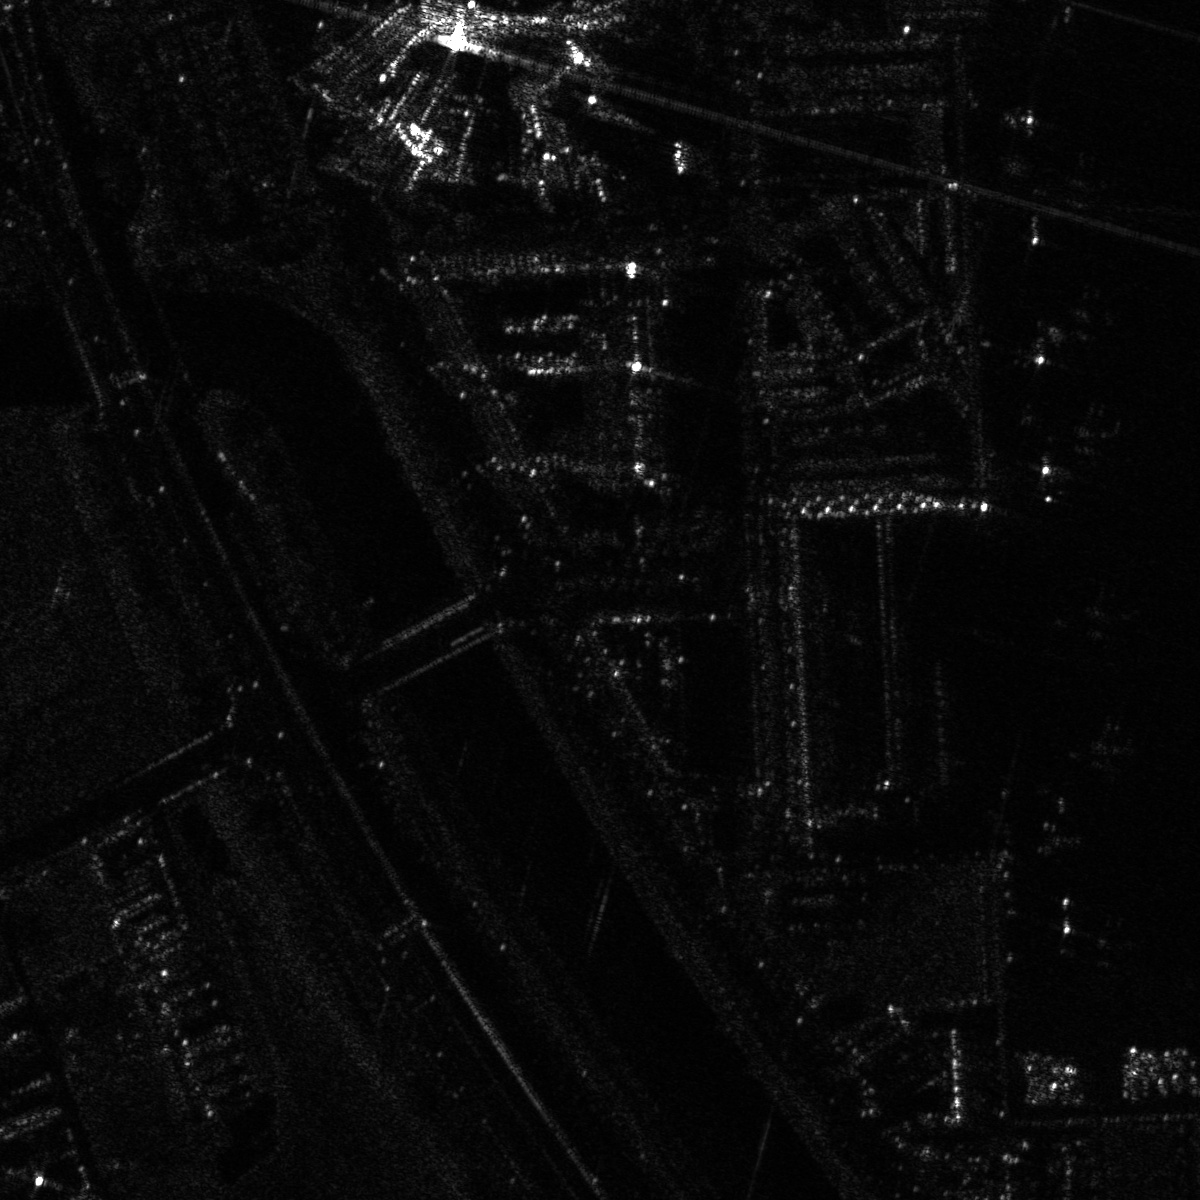A220: (1062, 716, 1141, 784), (1008, 315, 1085, 382), (1025, 451, 1079, 505), (1003, 104, 1066, 141), (1019, 216, 1064, 264)
